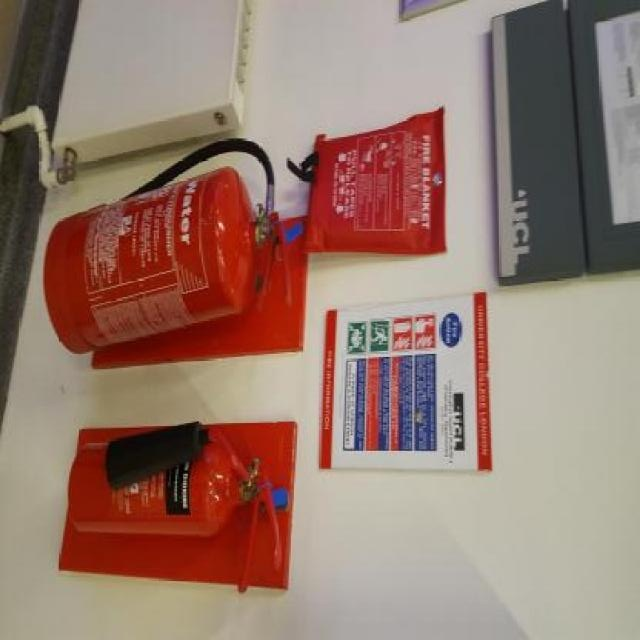fire extinguisher: (40, 134, 294, 358), (67, 418, 282, 596)
